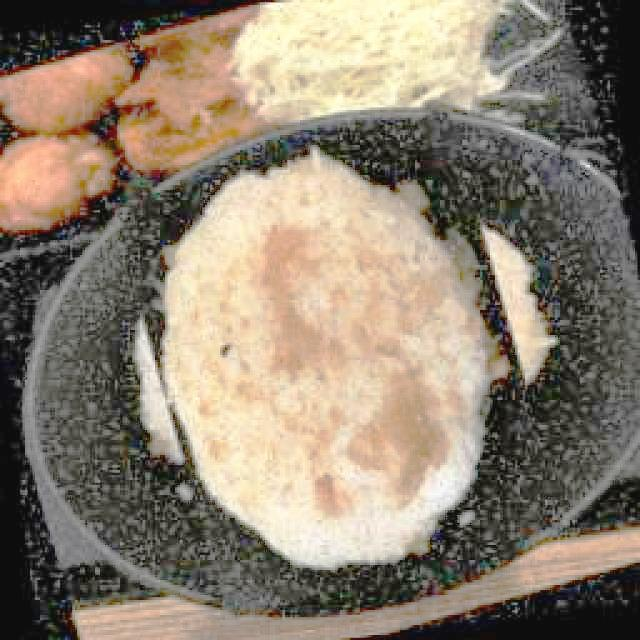mung_bean_sprouts: (237, 2, 527, 116)
rice: (160, 151, 482, 568)
